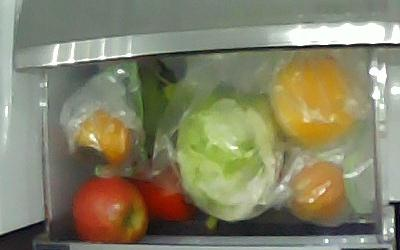apple: (73, 176, 146, 243)
grapefruit_vinyl: (272, 59, 359, 146)
lettuce_vinyl: (174, 87, 284, 221)
paprika: (131, 164, 197, 221)
peach_vinyl: (286, 162, 348, 223)
persimmon_vinyl: (72, 106, 134, 166)
